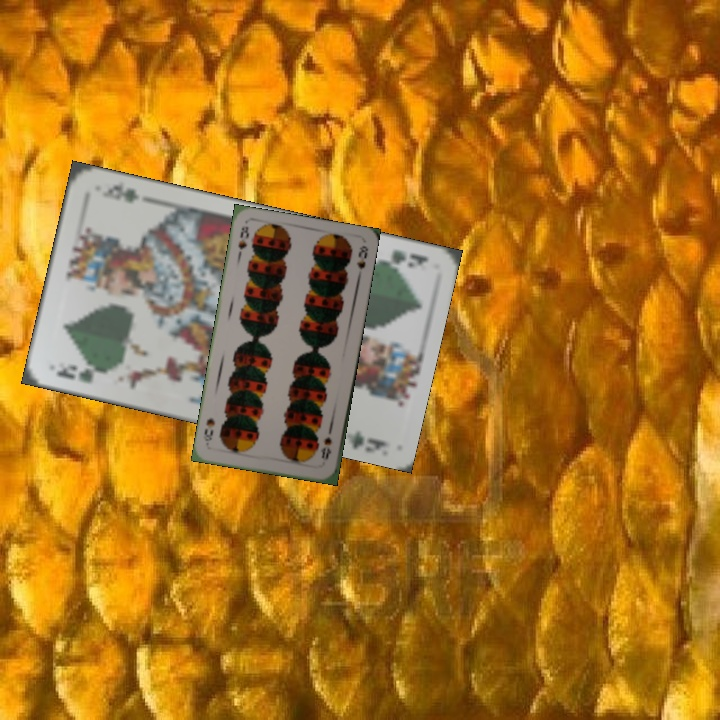GK: (372, 245, 432, 271), (52, 361, 96, 387)
S8: (234, 222, 251, 261), (318, 433, 334, 462)
